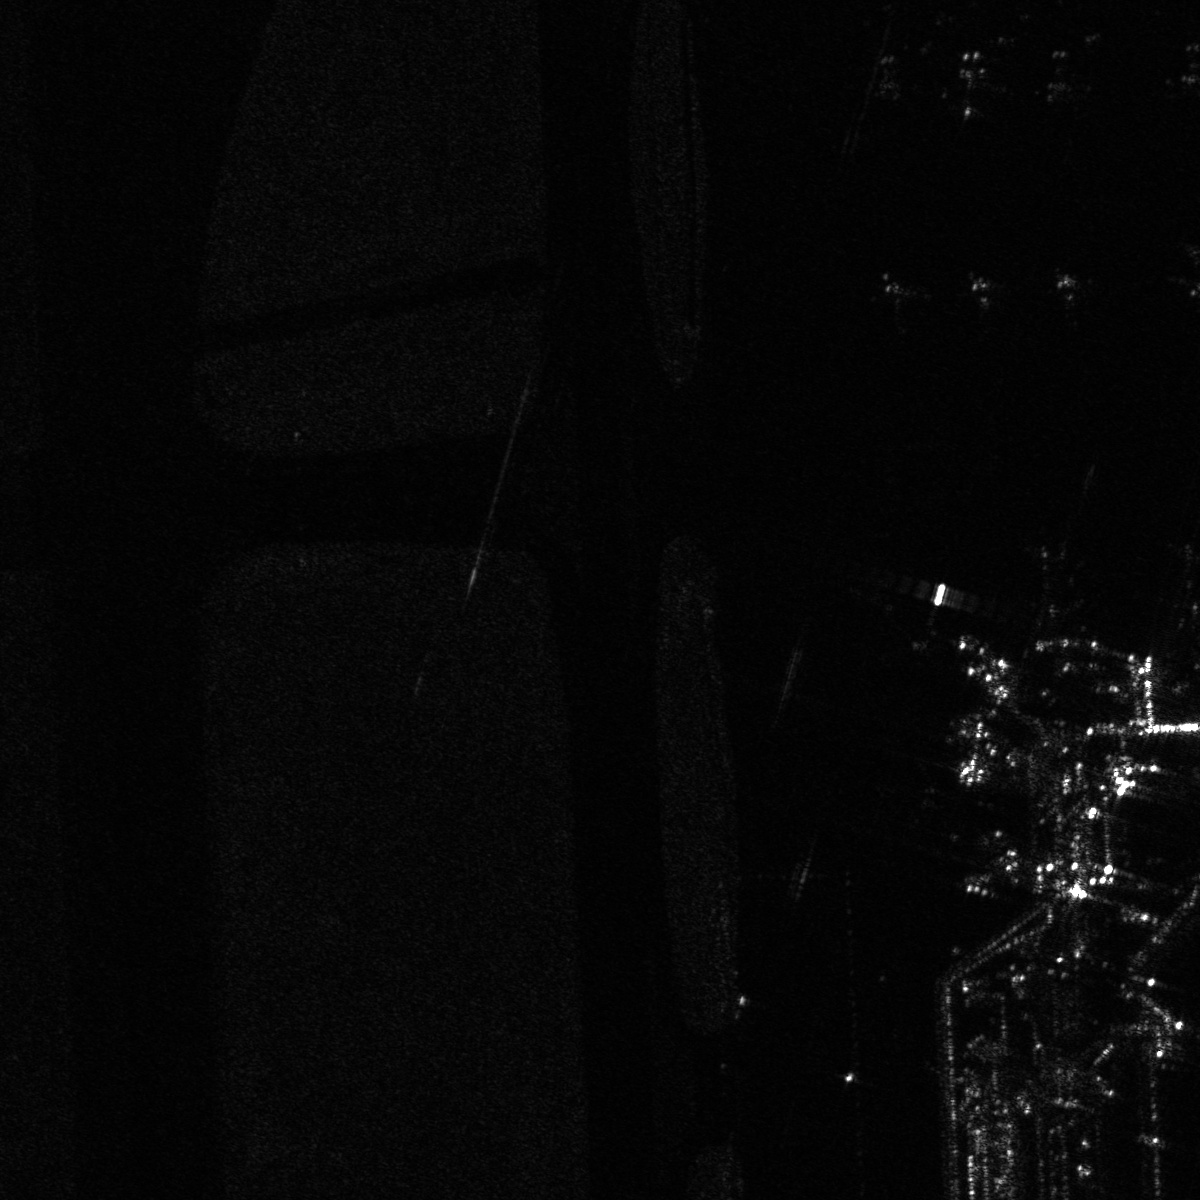A220: (951, 267, 1013, 337)
A320/321: (1040, 262, 1098, 333)
ARJ21: (862, 264, 934, 344), (1032, 45, 1090, 108), (862, 52, 916, 105)
Boeing737: (934, 44, 1005, 126)
other: (1007, 540, 1108, 656)
